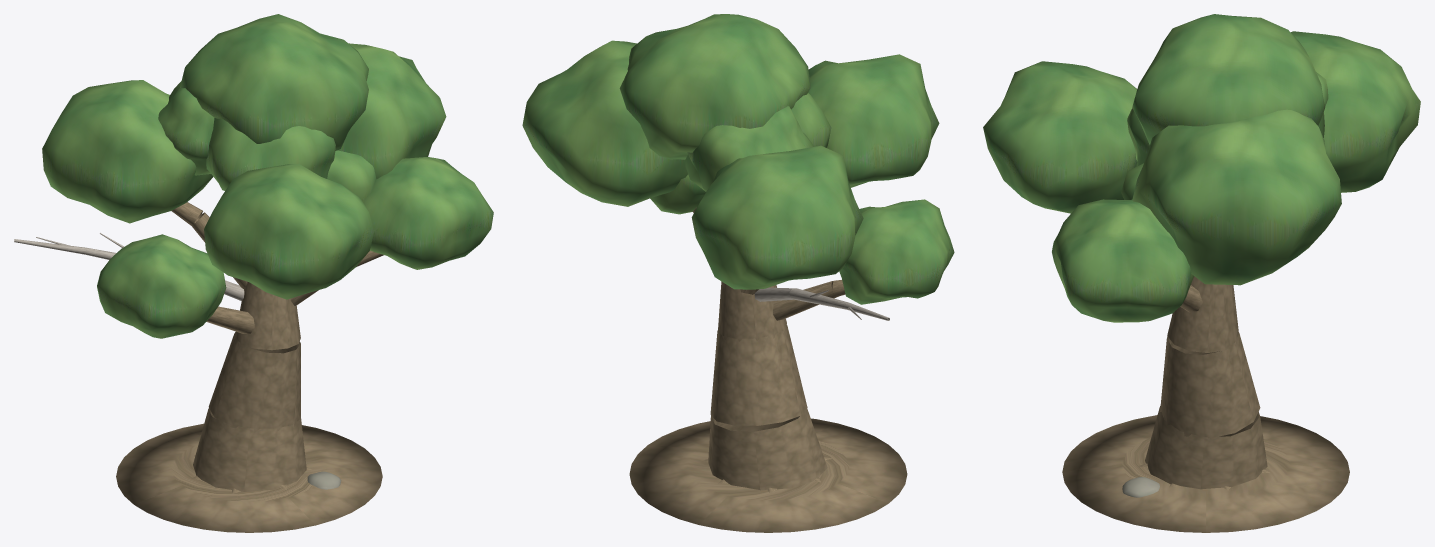
The model's file is garden-witness-tree.glb.
The picture shows the model from 3 angles, left to right: view 1: azimuth 30°, elevation 25°; view 2: azimuth 150°, elevation 25°; view 3: azimuth 270°, elevation 25°; orthographic projection. The views are drawn at different scales.
Parts seen in each view (by area): view 1: witness_tree_canopy, witness_tree_bark, witness_dead_bough; view 2: witness_tree_canopy, witness_tree_bark, witness_dead_bough; view 3: witness_tree_canopy, witness_tree_bark, seed_stone.
Boxes of the visible parts, left/top/right/bottom form: witness_tree_canopy: left=42, top=14, right=493, bottom=338; witness_tree_bark: left=116, top=202, right=383, bottom=532; witness_dead_bough: left=14, top=233, right=244, bottom=300; witness_tree_canopy: left=522, top=14, right=954, bottom=304; witness_tree_bark: left=629, top=207, right=907, bottom=532; witness_dead_bough: left=754, top=287, right=889, bottom=320; witness_tree_canopy: left=983, top=14, right=1420, bottom=322; witness_tree_bark: left=1062, top=276, right=1349, bottom=532; seed_stone: left=1122, top=477, right=1159, bottom=497.
Size of the model in its own units: 123 by 139 by 115.
4 materials, 4 textured.
